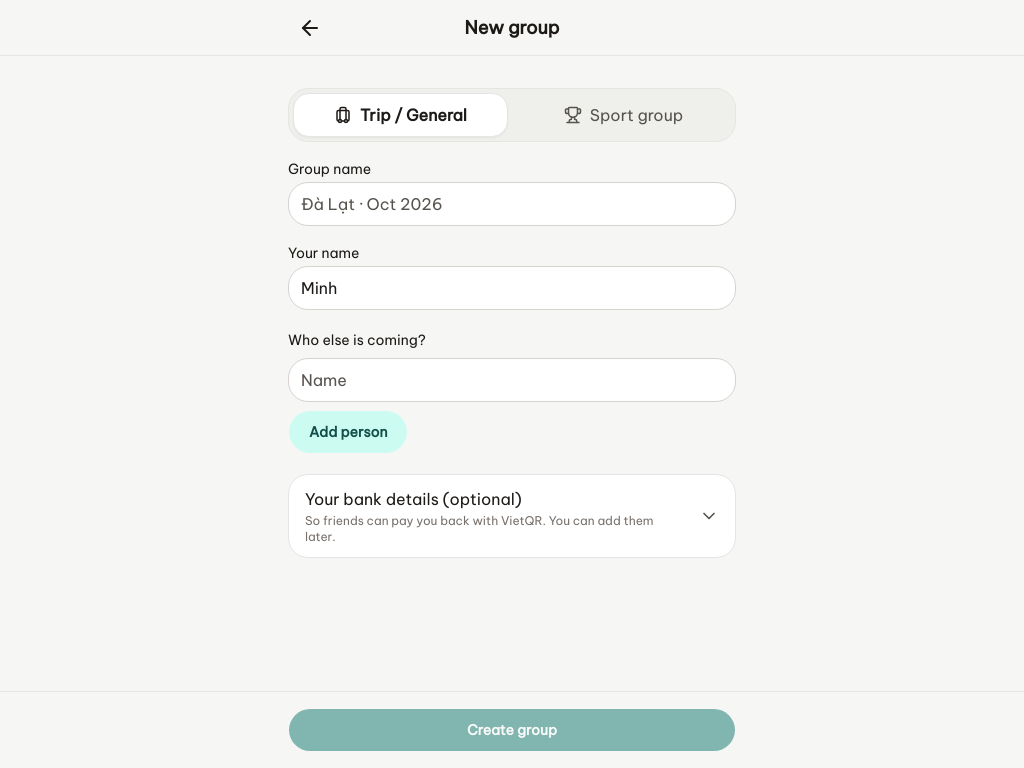
Test: CreateTrip people › handles Enter itself, so the browser never submits from a name line
This screenshot has width=1024, height=768.
Check: the field labelled "Your name" is shown, box [288,266,736,310]
Step 1. Press Enter in the dropdown with placeholder "Name", box [288,358,736,402]
Step 2. Type "An" into the dropdown with placeholder "Name" → (512, 380), box [288,358,736,402]
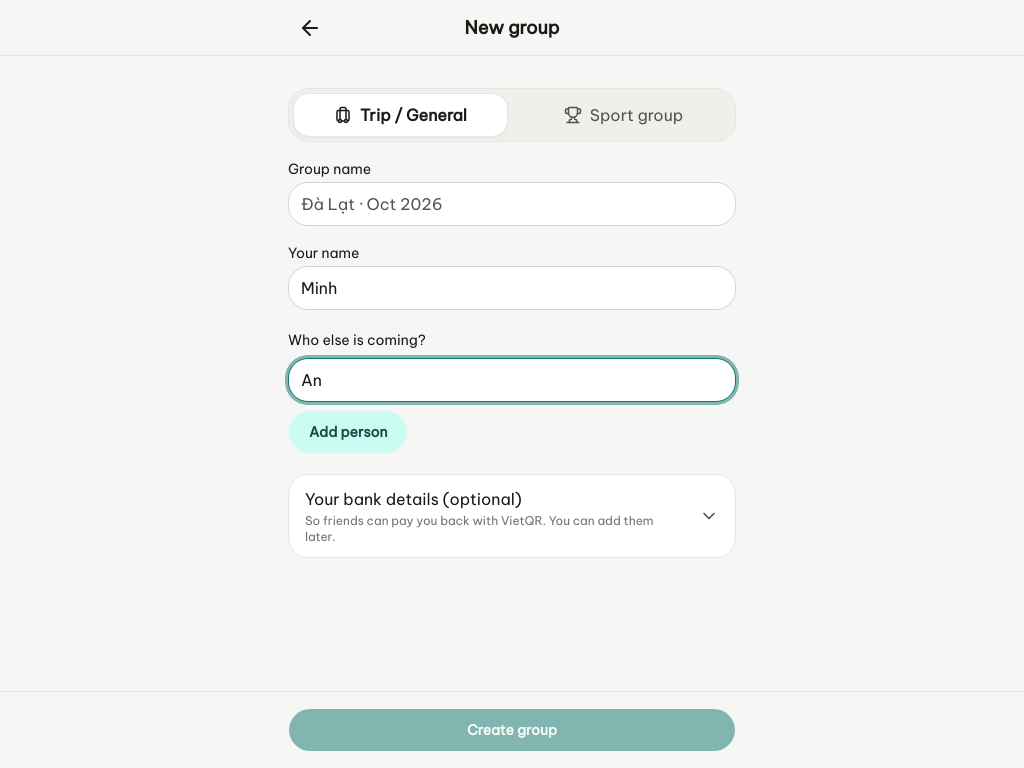
Step 3. Press Enter in the dropdown with placeholder "Name", box [288,358,736,402]
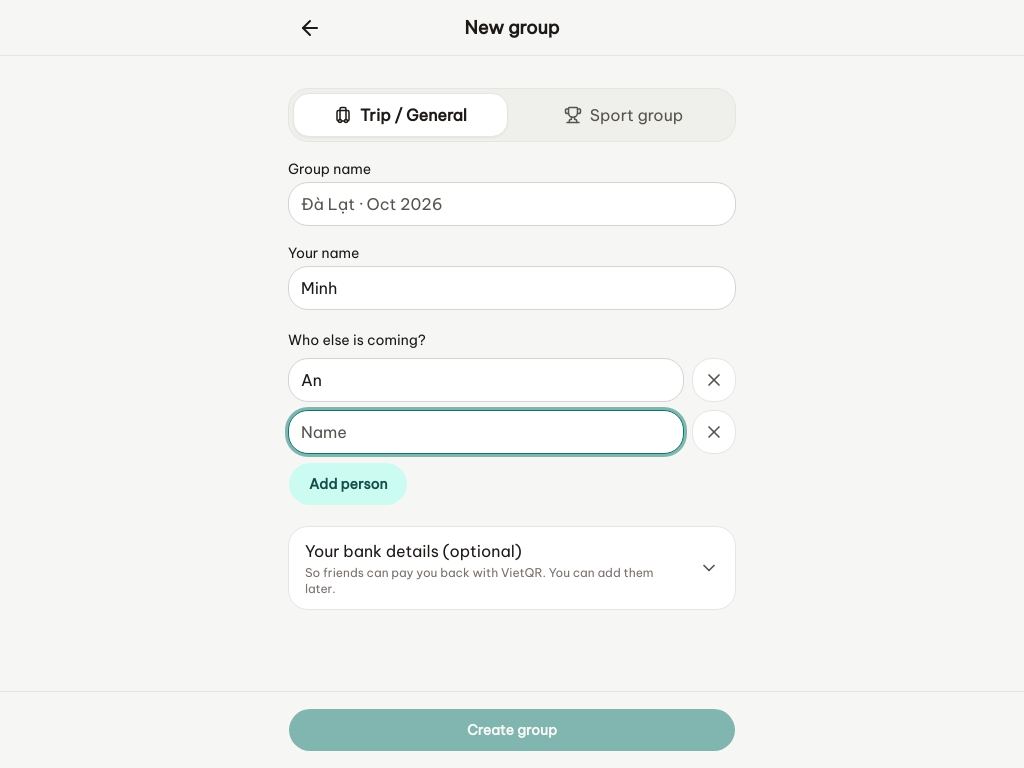
Check: the number of dropdowns with placeholder "Name" is 2, box [288,358,684,402]; [288,410,684,454]
